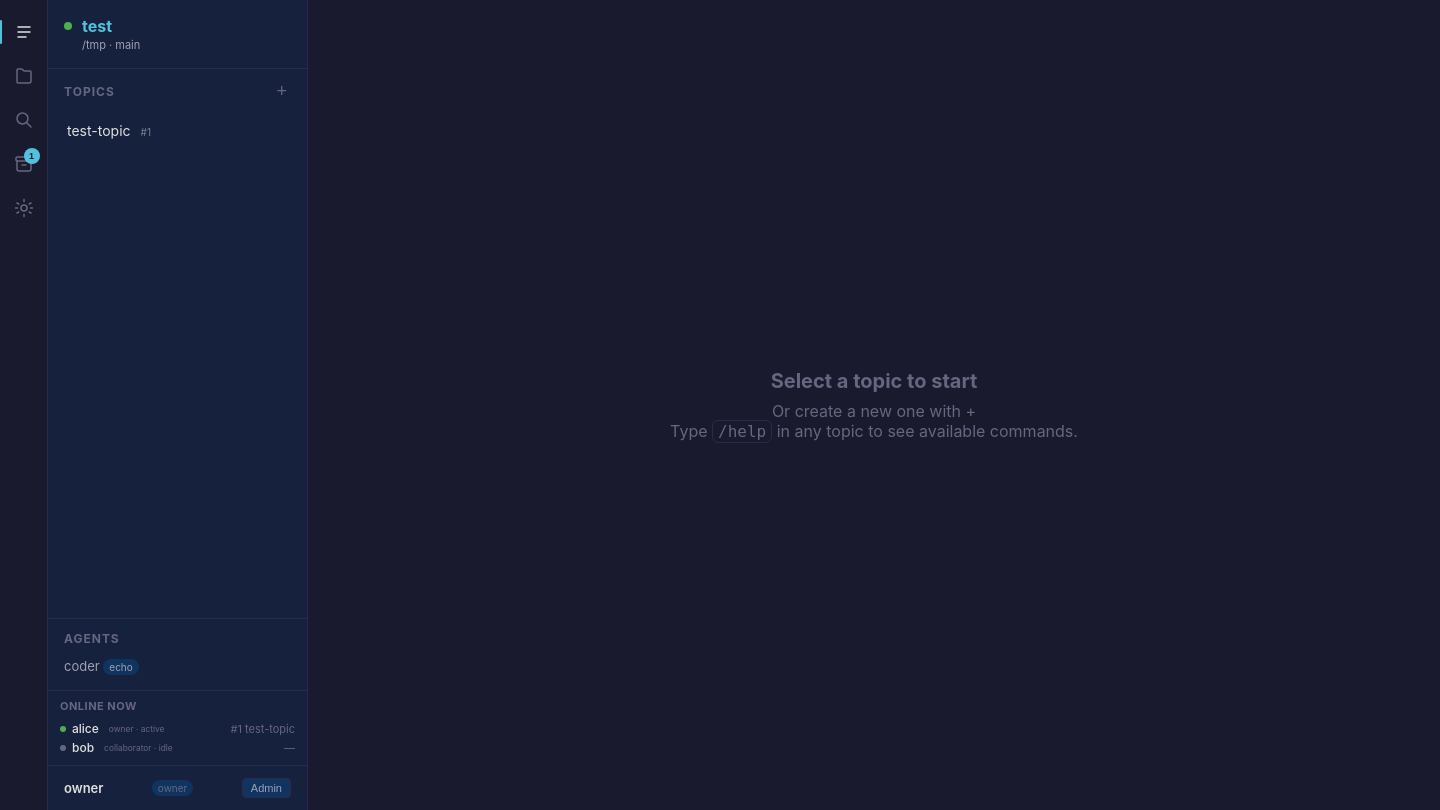
it: /help command › inserts a markdown help message with headings and list items
Expected: the heading "Select a topic to start" is shown, [771,369,977,393]
Click the list item "test-topic" at (109, 130), box [67,122,151,139]
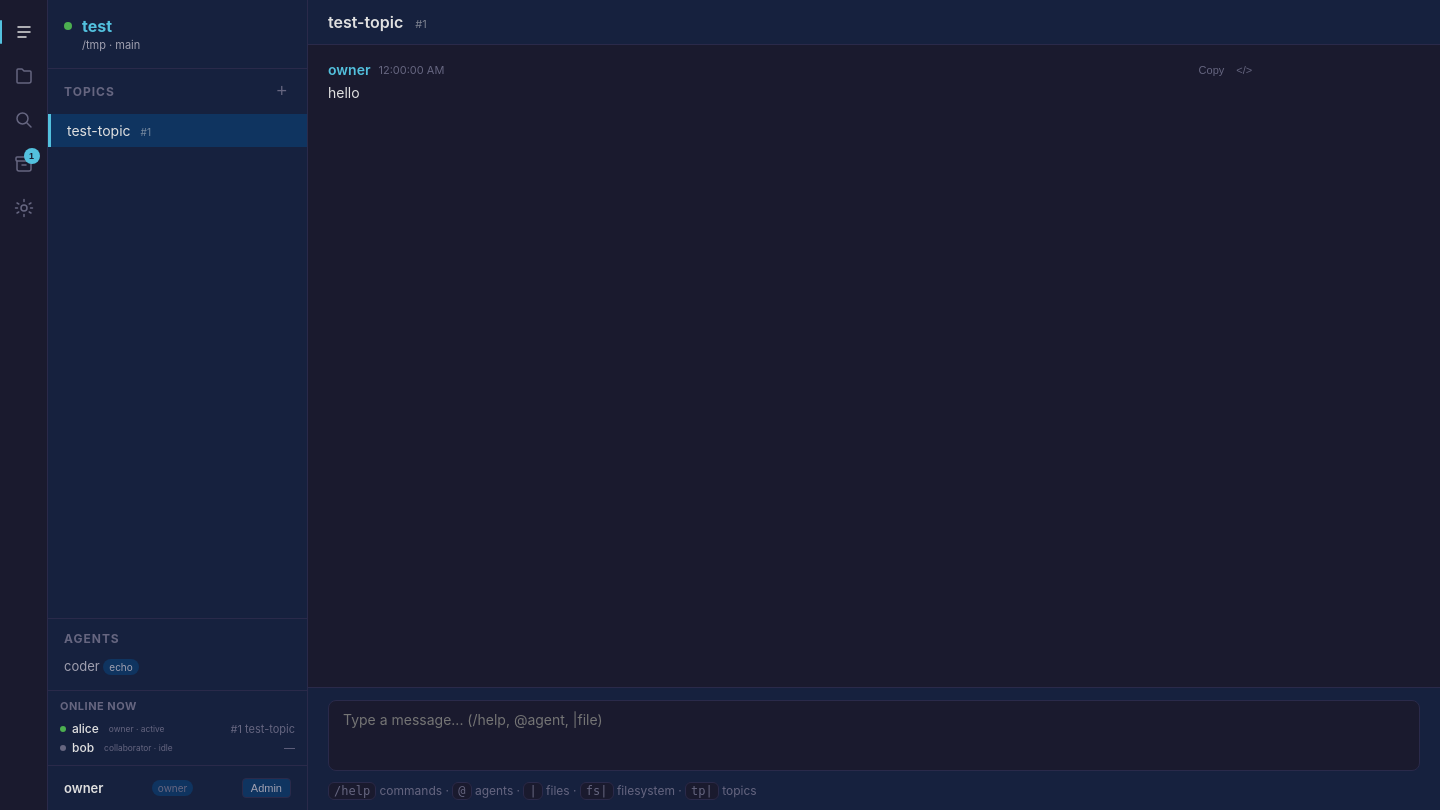
Result: the text box with placeholder "Type a message... (/help, @agent, |file)" is shown
Type "/help" into the text box with placeholder "Type a message... (/help, @agent, |file)" at (874, 736), box [328,700,1420,771]
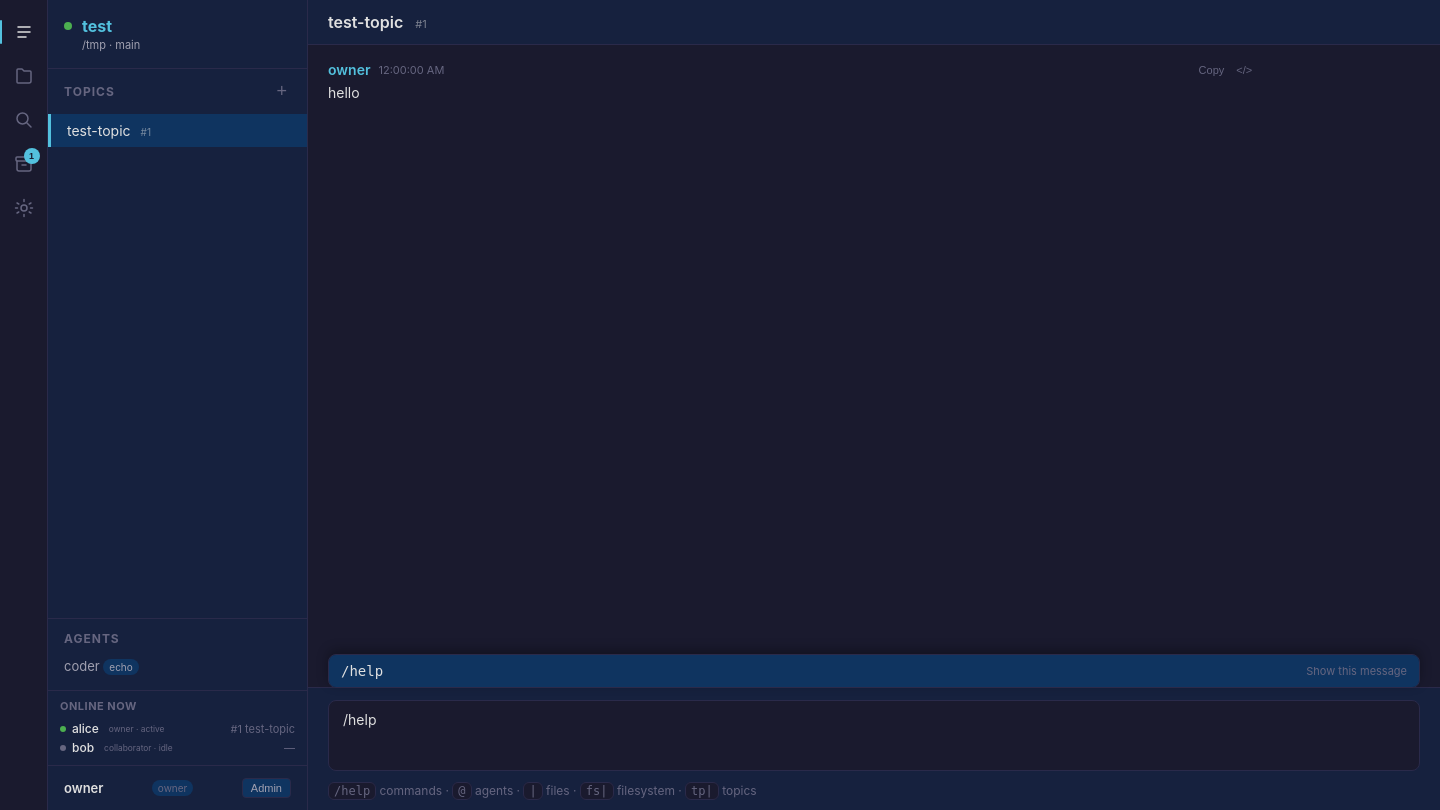
Press Enter in the text box with placeholder "Type a message... (/help, @agent, |file)", box [328,700,1420,771]
(page scrolled)
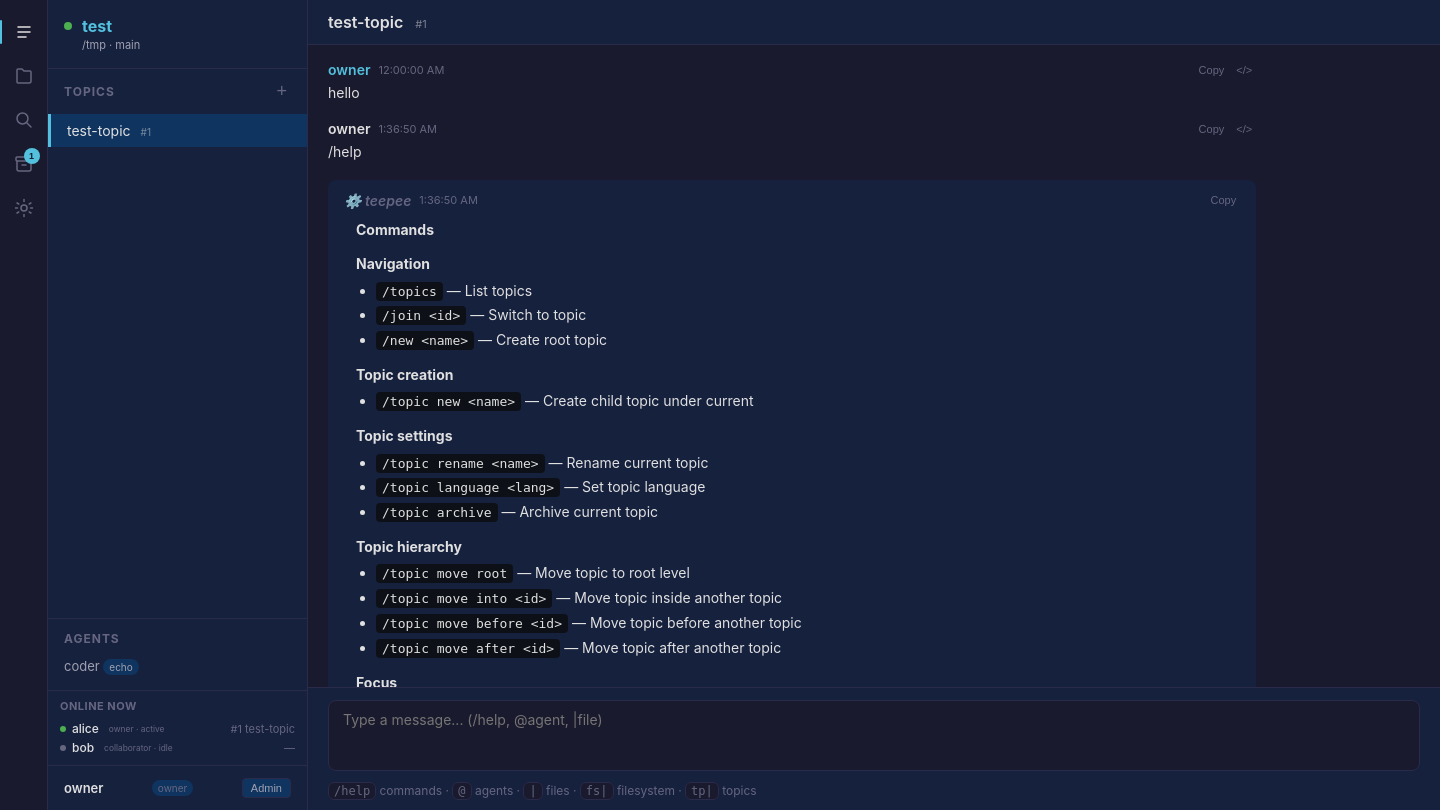
Result: the text "Commands" is shown at [356,221,434,238]
Result: the list item "/topics — List topics" is shown at [376,282,532,301]
